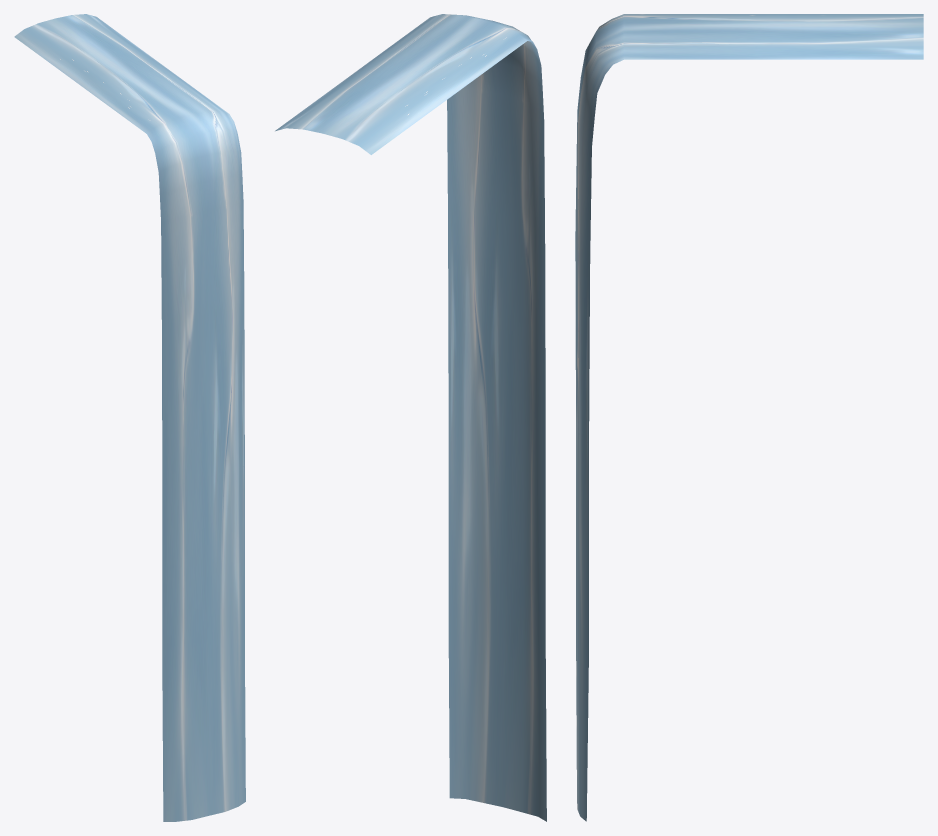
The model's file is Fx_Waterfall_02.FBX.
3 renders of one model, left to right at view 1: azimuth 30°, elevation 25°; view 2: azimuth 150°, elevation 25°; view 3: azimuth 270°, elevation 25°, orthographic. The views are drawn at different scales.
Visible parts, largest first — view 1: Fx_Waterfall_02; view 2: Fx_Waterfall_02; view 3: Fx_Waterfall_02.
Boxes of the visible parts, x1=… form: Fx_Waterfall_02: x1=14, y1=14, x2=245, y2=821; Fx_Waterfall_02: x1=275, y1=14, x2=546, y2=821; Fx_Waterfall_02: x1=575, y1=14, x2=923, y2=821.
Size of the model in its own units: 14.28 by 113 by 46.23.
